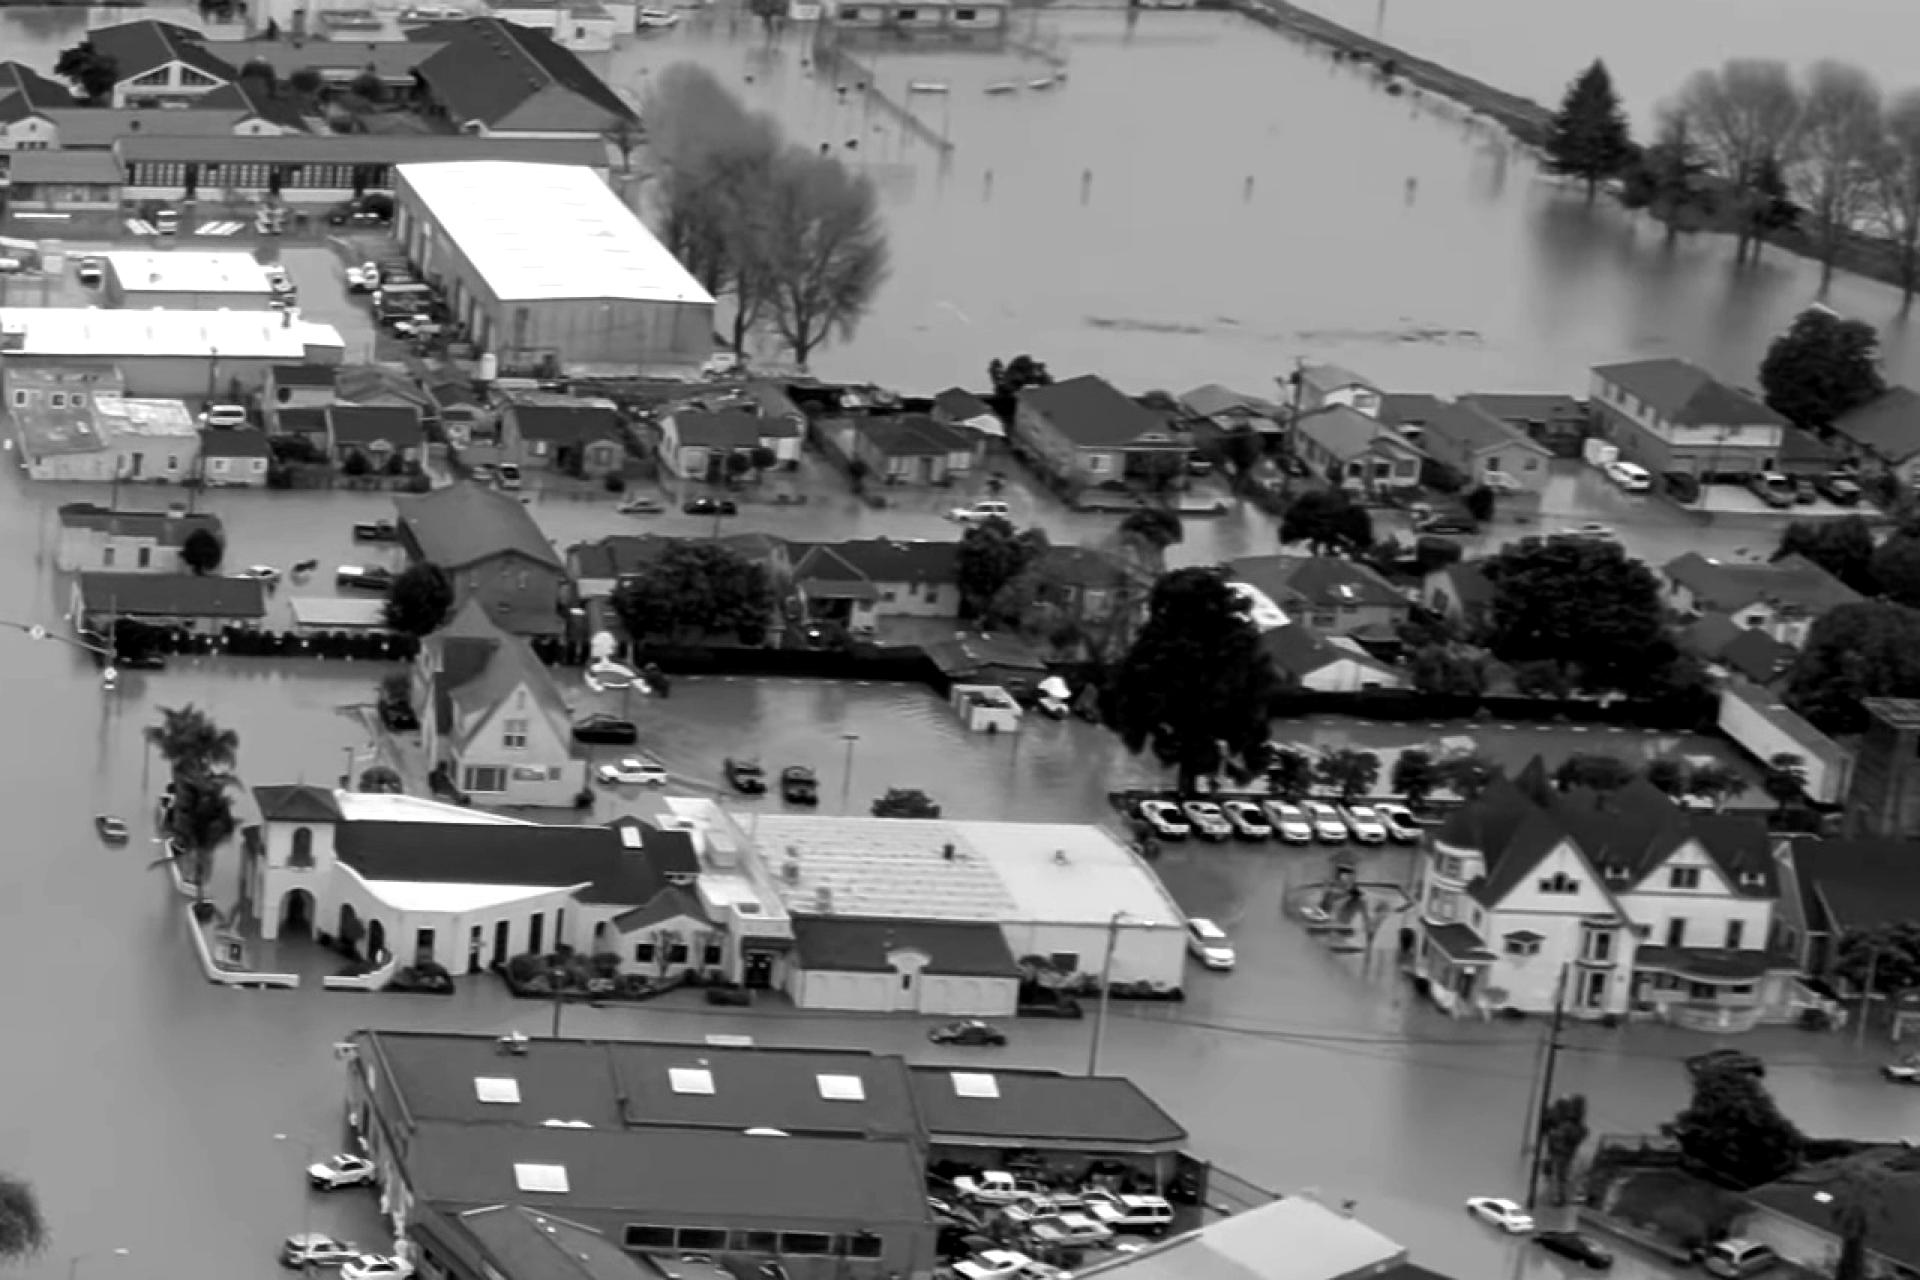House: (344, 1024, 923, 1247), (1401, 777, 1853, 1034), (243, 779, 700, 976), (723, 811, 1180, 989), (411, 626, 586, 809), (414, 1213, 886, 1280), (1663, 551, 1873, 686), (1777, 823, 1920, 996), (391, 481, 563, 611), (1743, 1159, 1920, 1280), (774, 540, 964, 627), (1224, 553, 1413, 627), (74, 573, 266, 637), (57, 500, 223, 573), (1263, 624, 1403, 690), (567, 533, 664, 597)
Vehicle: (1536, 1229, 1613, 1270), (1704, 1234, 1773, 1280), (306, 1150, 374, 1193), (1184, 916, 1236, 970), (283, 1231, 357, 1269), (1466, 1196, 1534, 1234), (1261, 797, 1311, 843), (1336, 801, 1387, 844), (1299, 799, 1349, 841), (337, 1253, 416, 1280), (930, 1020, 1007, 1047), (1223, 799, 1273, 840), (1140, 799, 1190, 839), (1374, 803, 1424, 843), (1183, 799, 1233, 837), (97, 810, 130, 850)
